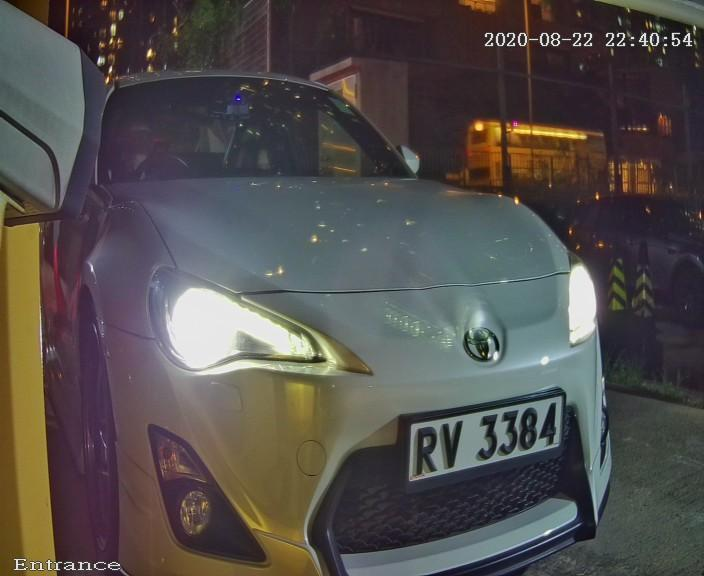License Plate: (376, 357, 605, 511)
